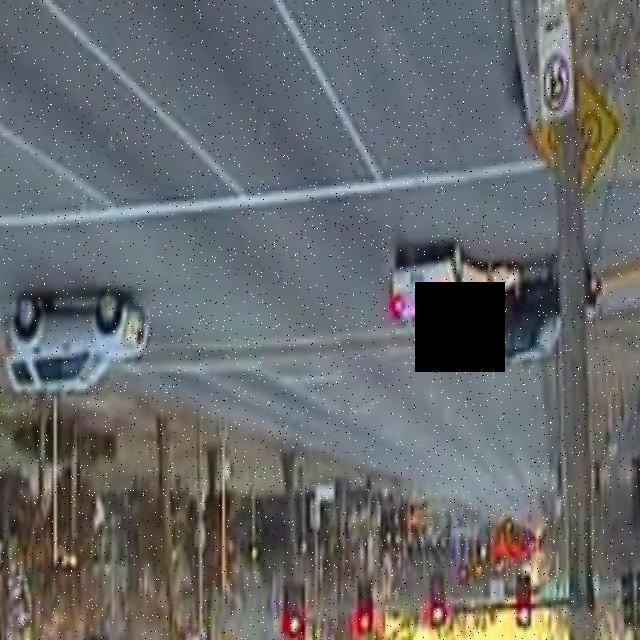vehicle: (378, 197, 552, 400)
